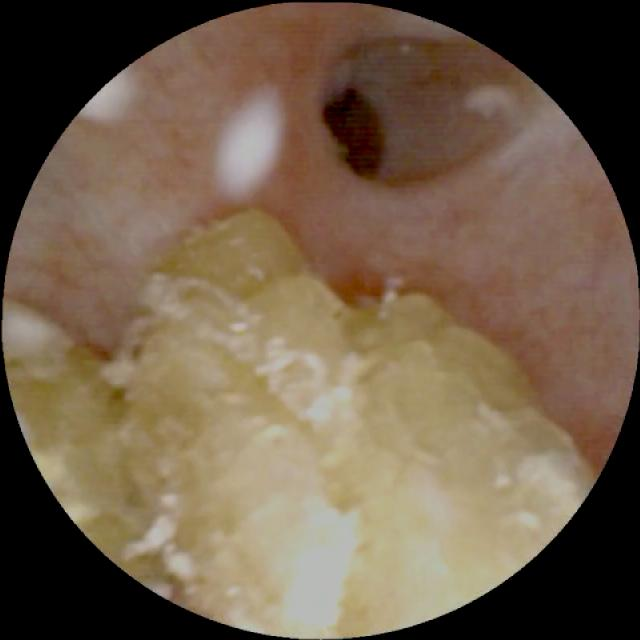stone: (5, 207, 589, 636)
tissue: (19, 13, 632, 456)
